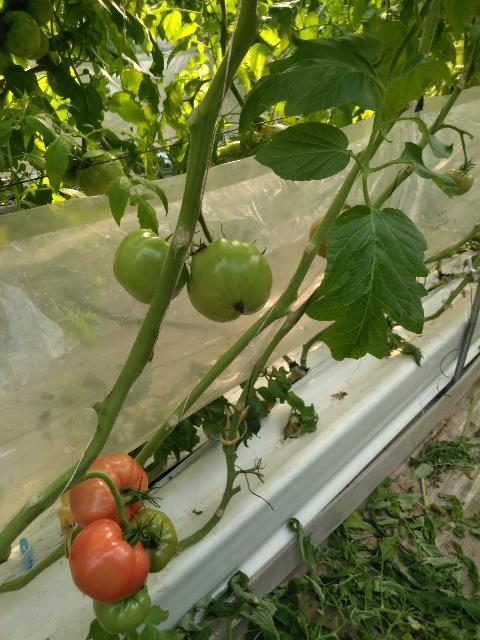b_fully_ripened: (68, 517, 150, 603)
b_green: (187, 238, 272, 324), (113, 229, 190, 306), (122, 507, 179, 574), (93, 584, 152, 635), (75, 151, 124, 197), (0, 11, 40, 58), (442, 167, 474, 197), (18, 0, 53, 27)
b_half_ripened: (69, 452, 148, 529)
